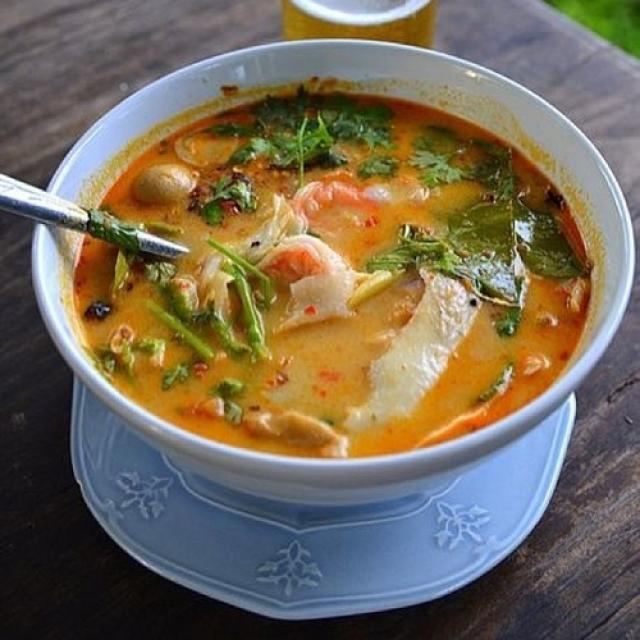汤锅炖物: (105, 124, 563, 439)
